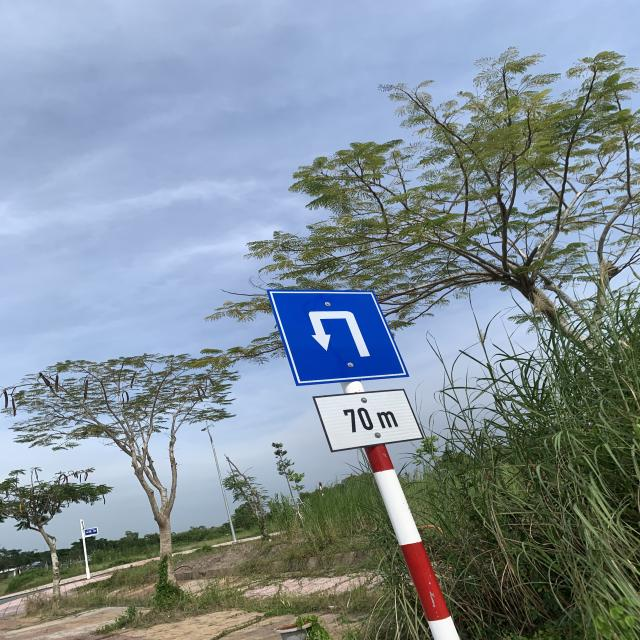Den_Giao_Thong: (268, 291, 409, 385)
